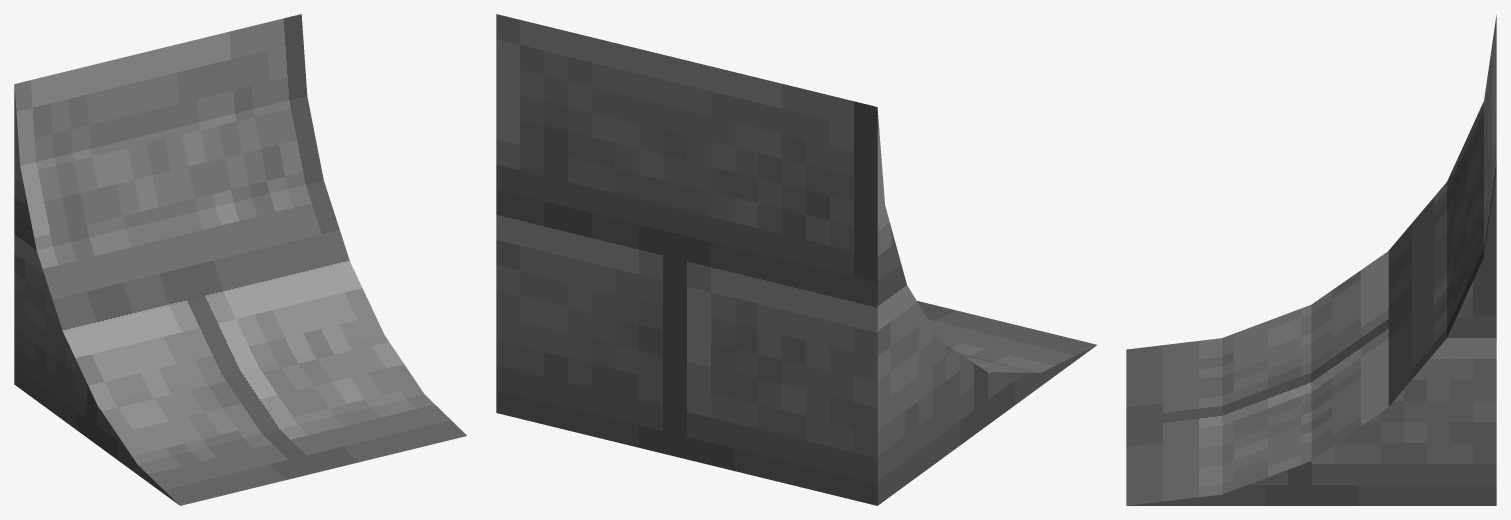
The model's file is round_arch.gltf.
The picture shows the model from 3 angles, left to right: view 1: azimuth 30°, elevation 25°; view 2: azimuth 150°, elevation 25°; view 3: azimuth 270°, elevation 25°; orthographic projection. The views are drawn at different scales.
Parts seen in each view (by area): view 1: Cylinder.002; view 2: Cylinder.002; view 3: Cylinder.002.
Part boxes in pixels (x1,y1,x2,y2): Cylinder.002: [14, 14, 466, 505]; Cylinder.002: [496, 14, 1096, 505]; Cylinder.002: [1126, 15, 1496, 505].
Bounding box in the file's own units: 1 × 1 × 1.
1 material, 1 textured.
